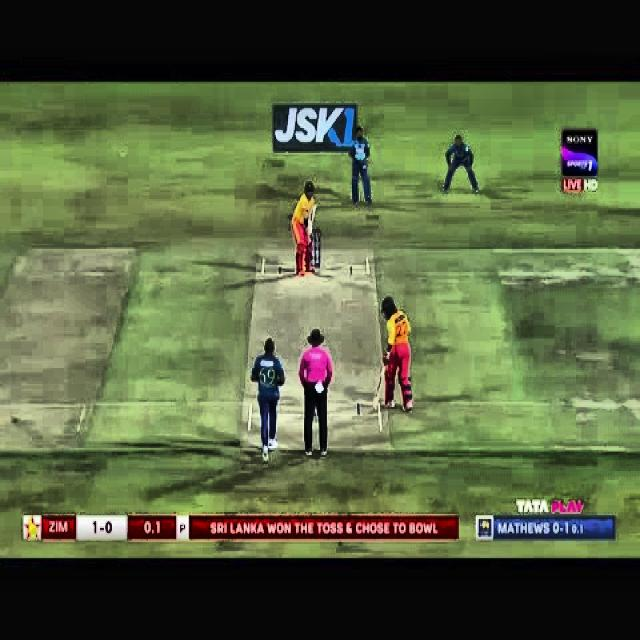Middle-stump: (314, 230, 316, 268)
Right-stump: (318, 230, 321, 268)
